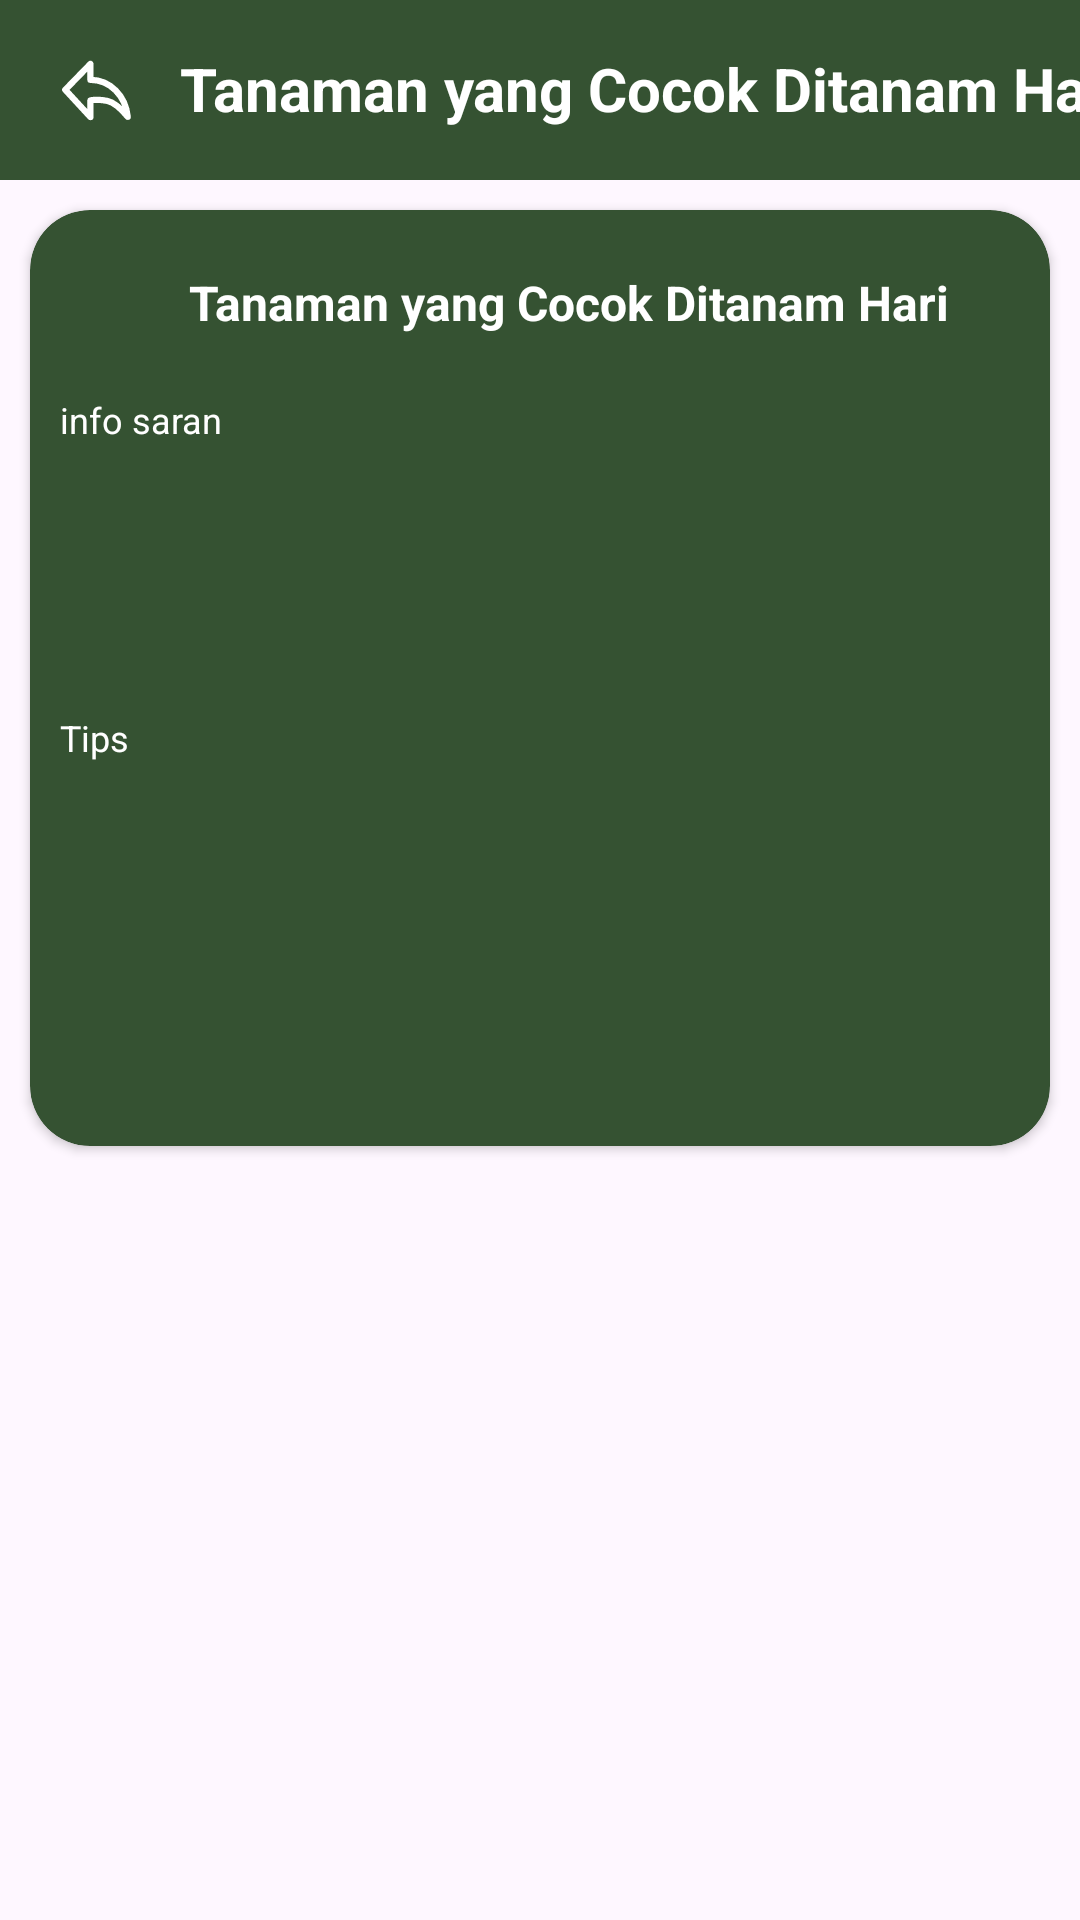

Screen size 1080px x 1920px. Icon name, then its center in pixels as point (x, y):
back button description: point (96, 90)
